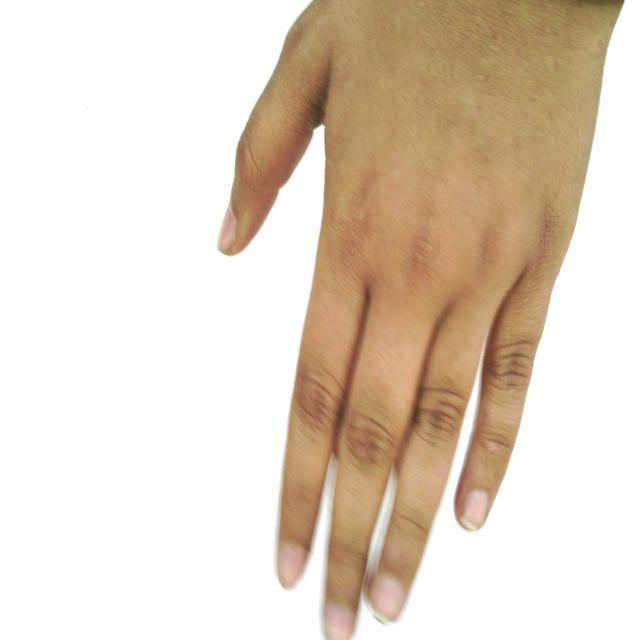Fingernail: (370, 576, 405, 624), (280, 543, 304, 588), (462, 490, 488, 530), (218, 210, 236, 251)
